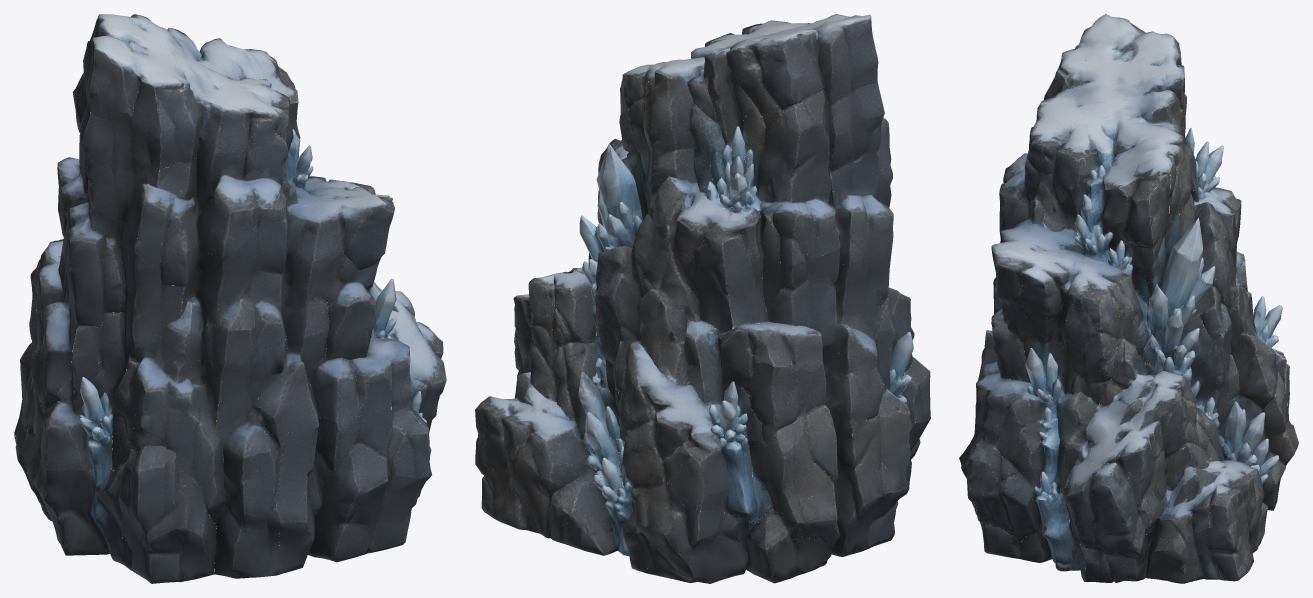
File: ice-crag-tripo.glb
3 views of the same model, side by side, from view 1: azimuth 30°, elevation 25°; view 2: azimuth 150°, elevation 25°; view 3: azimuth 270°, elevation 25° (orthographic). The views are drawn at different scales.
Parts seen in each view (by area): view 1: tripo_node_8f557200-70fe-46a3-98c6-d8d6bcedcf01; view 2: tripo_node_8f557200-70fe-46a3-98c6-d8d6bcedcf01; view 3: tripo_node_8f557200-70fe-46a3-98c6-d8d6bcedcf01.
Part boxes in pixels (x1,y1,x2,y2): tripo_node_8f557200-70fe-46a3-98c6-d8d6bcedcf01: [14, 14, 446, 583]; tripo_node_8f557200-70fe-46a3-98c6-d8d6bcedcf01: [475, 14, 930, 583]; tripo_node_8f557200-70fe-46a3-98c6-d8d6bcedcf01: [959, 14, 1298, 583].
Bounding box in the file's own units: 0.8075 × 1 × 0.7023.
Materials: 1 (1 with a texture image).
